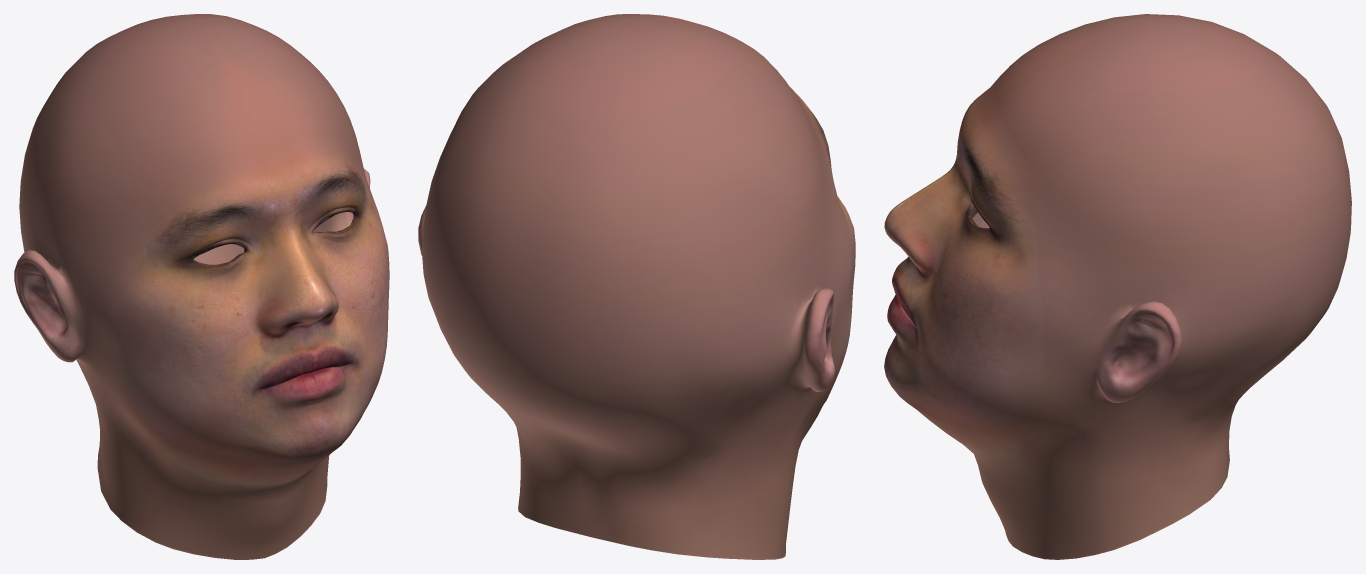
The picture shows the model from 3 angles, left to right: view 1: azimuth 30°, elevation 25°; view 2: azimuth 150°, elevation 25°; view 3: azimuth 270°, elevation 25°; orthographic projection. The views are drawn at different scales.
Parts seen in each view (by area): view 1: FaceGen; view 2: FaceGen; view 3: FaceGen.
Part boxes in pixels (left/top/right/bottom): FaceGen: left=14, top=14, right=389, bottom=559; FaceGen: left=418, top=14, right=855, bottom=559; FaceGen: left=884, top=14, right=1351, bottom=559.
Size of the model in its own units: 214 by 281 by 234.
1 material, 1 textured.
